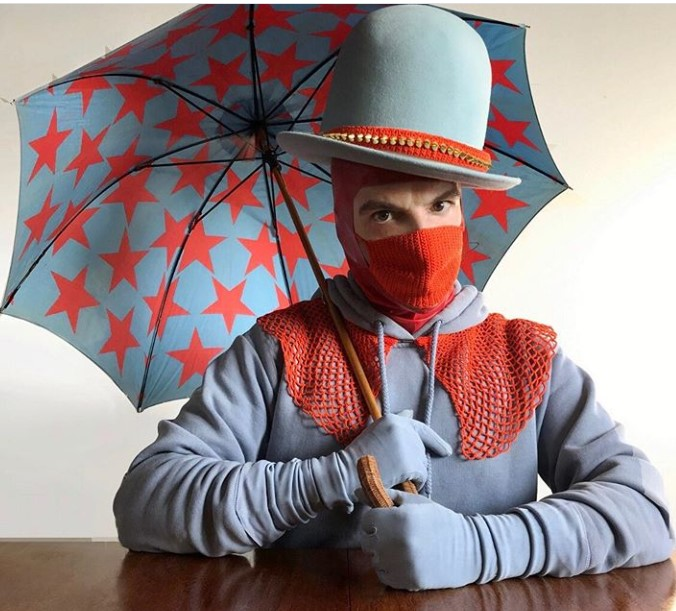face_with_mask: (332, 151, 466, 319)
